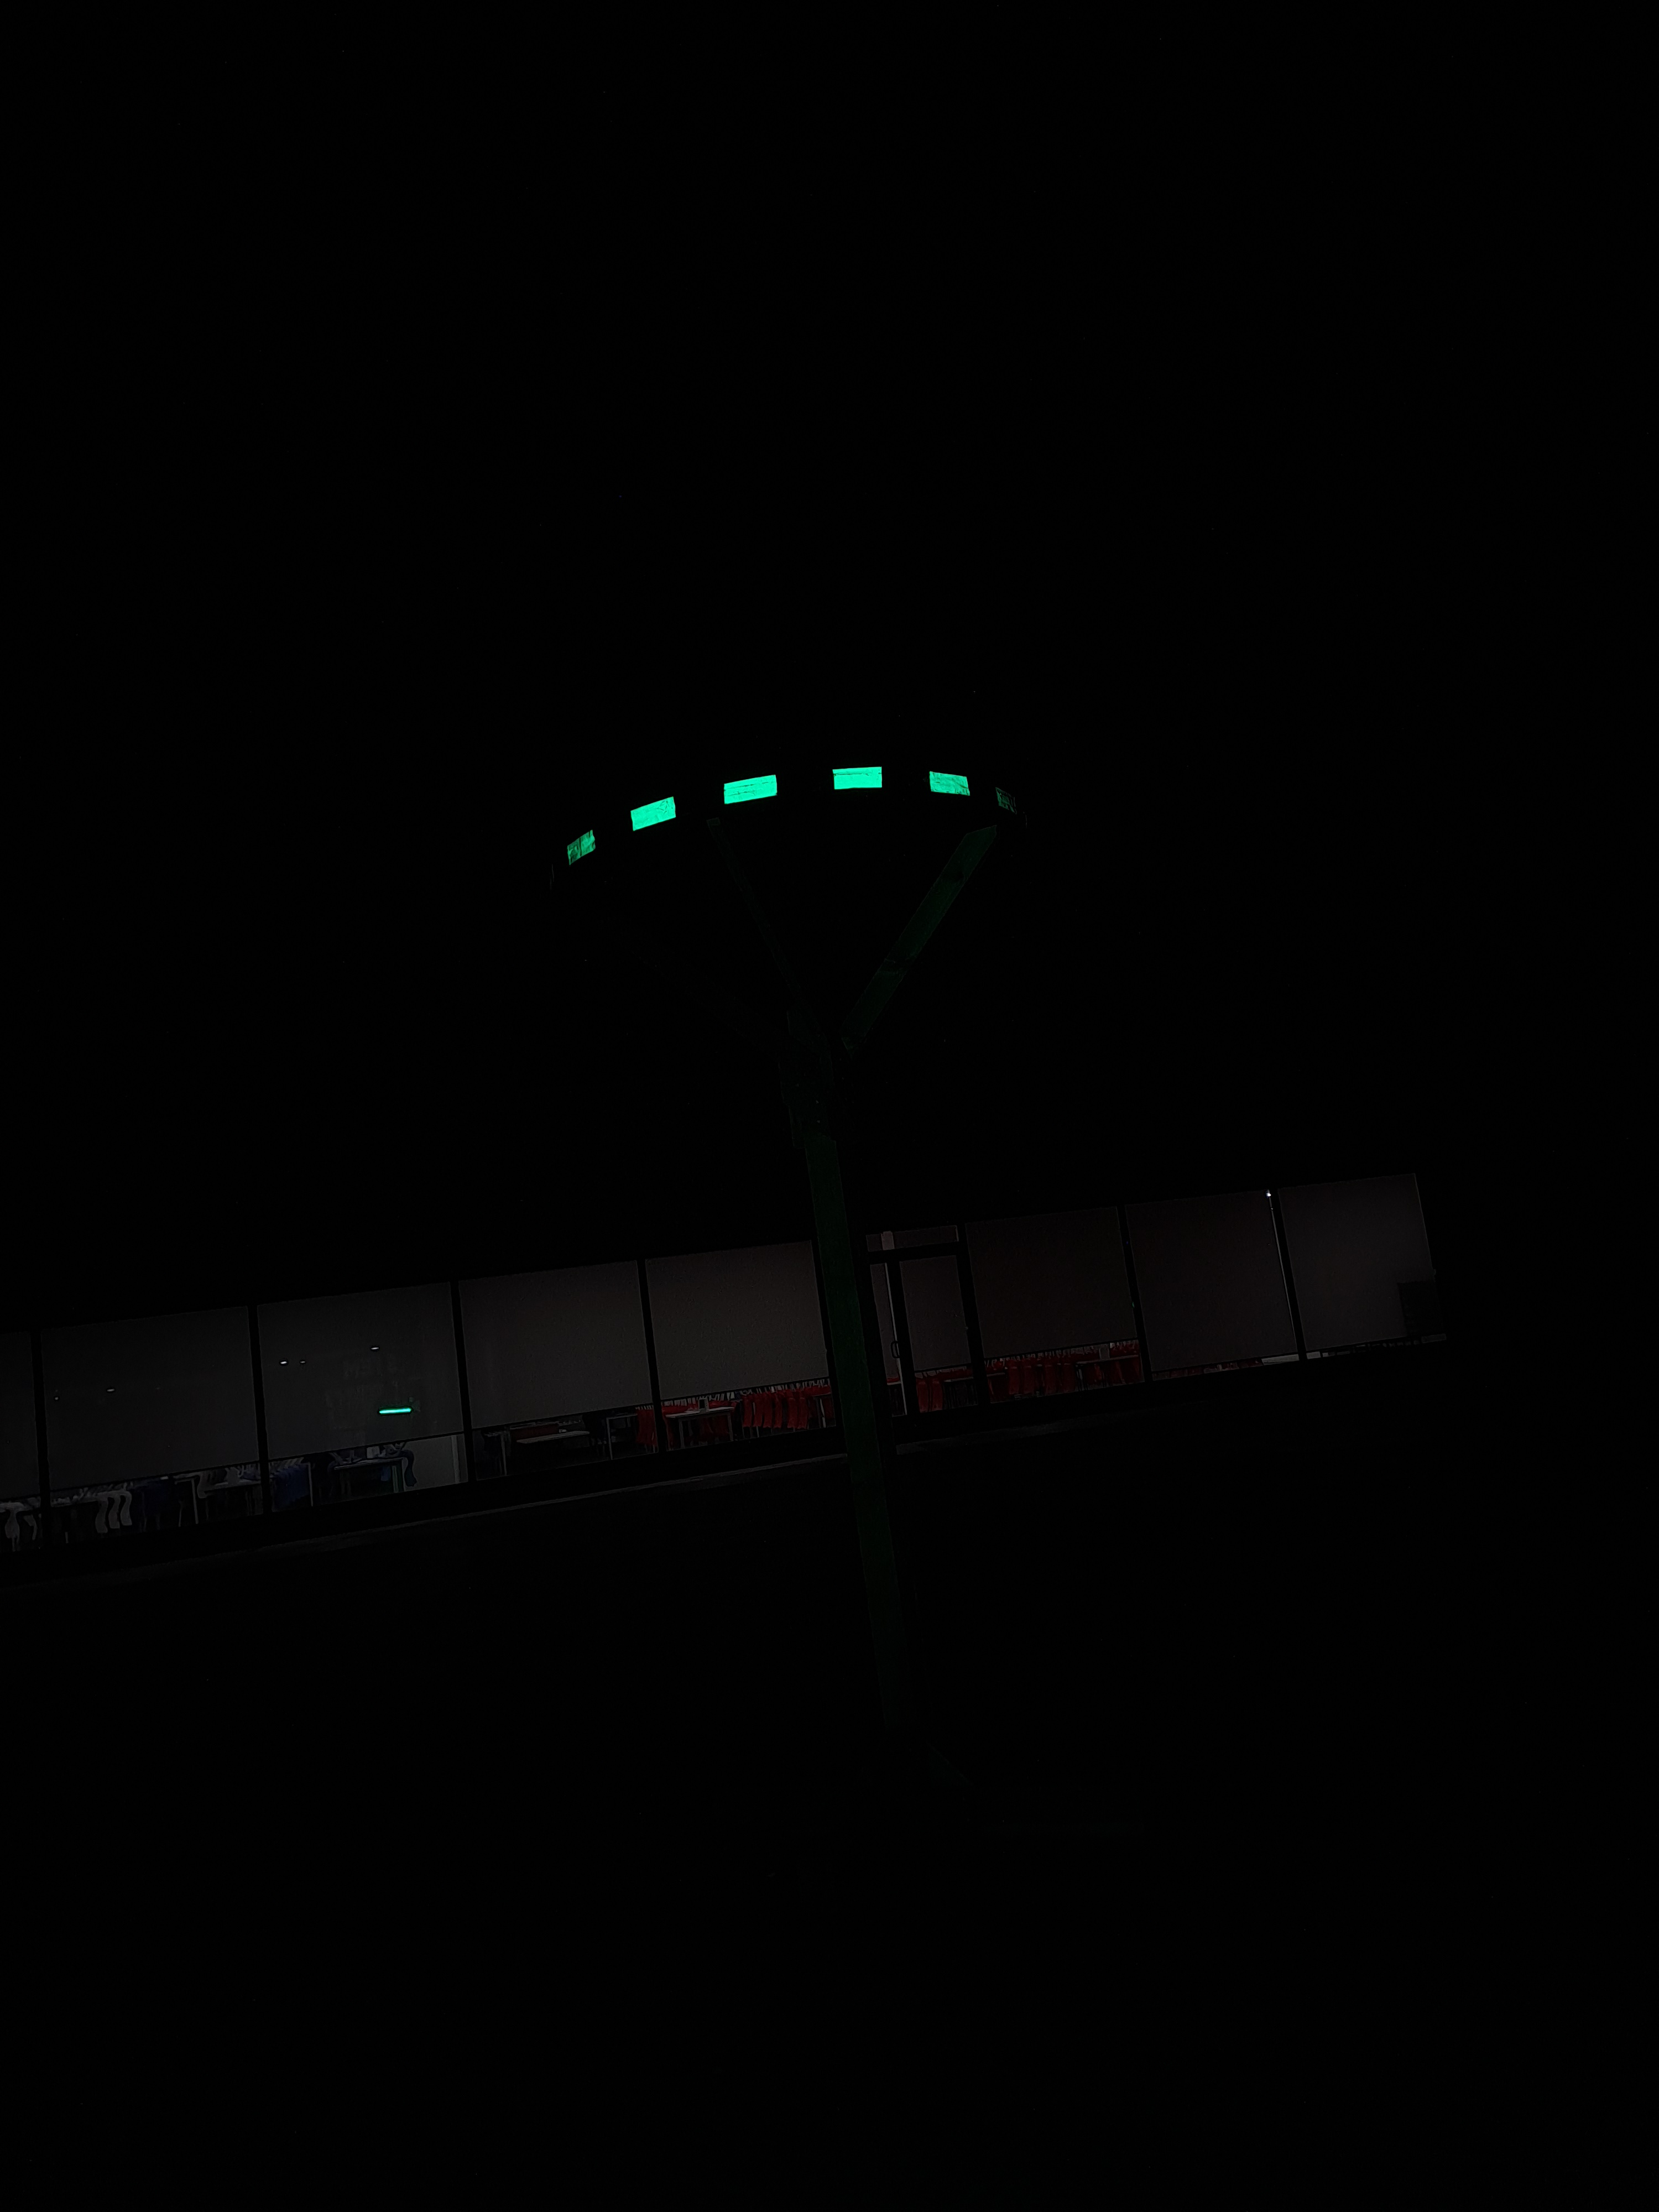hoop: (559, 768, 1026, 887)
